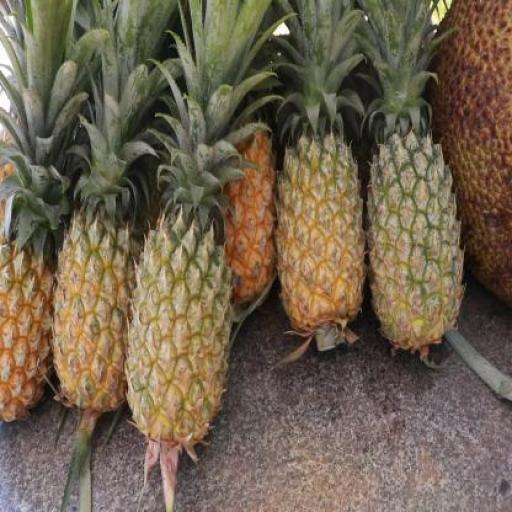------------------------------: (125, 218, 229, 442)
Pineapple - v8 v1: (52, 216, 144, 414), (276, 140, 362, 335), (0, 228, 57, 426)
